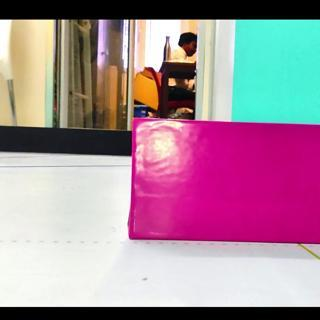xparking: (134, 124, 316, 243)
